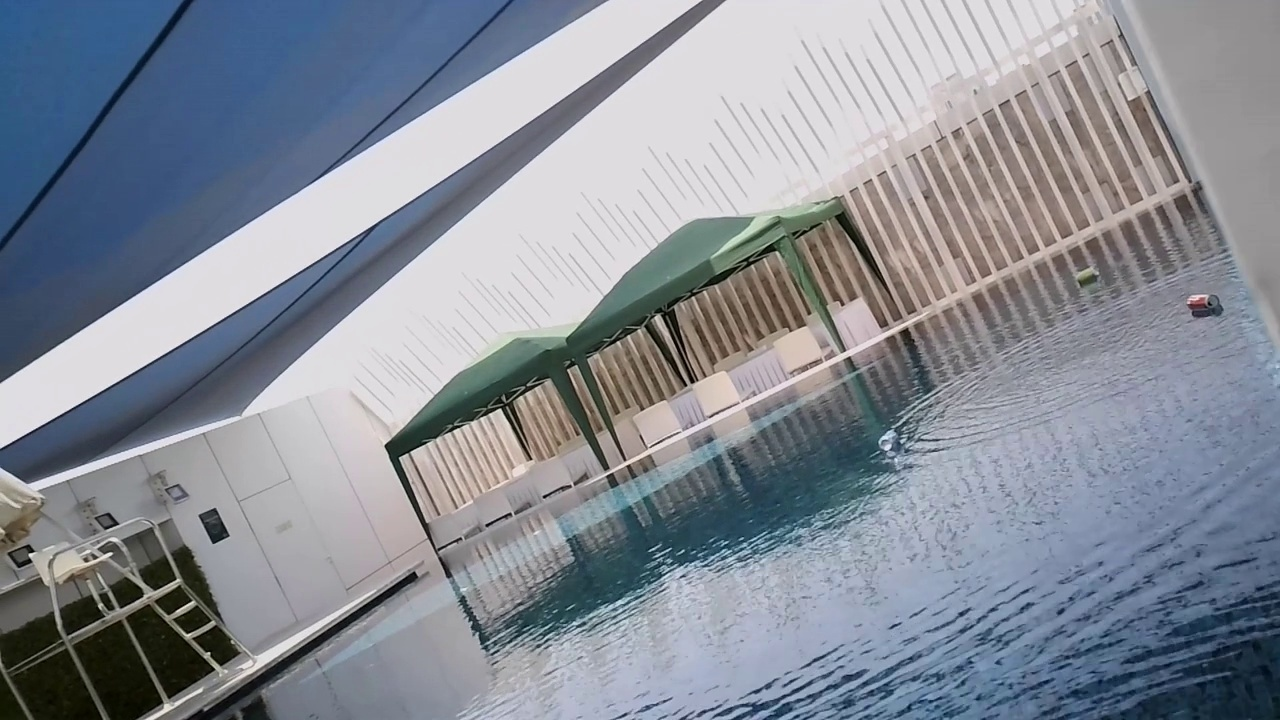debris: (1184, 291, 1225, 319), (1072, 264, 1102, 290), (872, 425, 899, 453)
